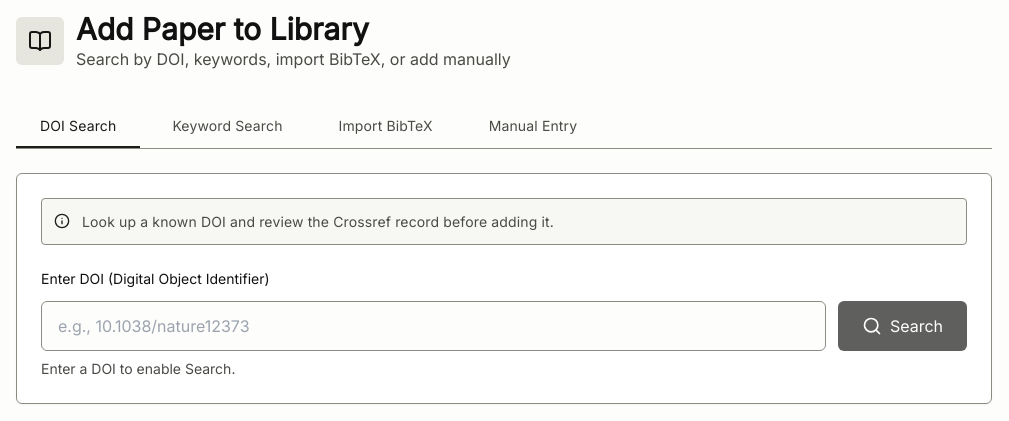
Scenario: AddPaperView disabled-search hints › DOI search explains the disabled button via title + live hint
Expected: the button "Search" is disabled, left=838, top=301, right=967, bottom=351
Expected: the text "Enter a DOI to enable Search." is shown, left=41, top=360, right=235, bottom=377
Type "10.1234/x" into the field with placeholder "e.g., 10.1038/nature12373" at (433, 326), box left=41, top=301, right=826, bottom=351
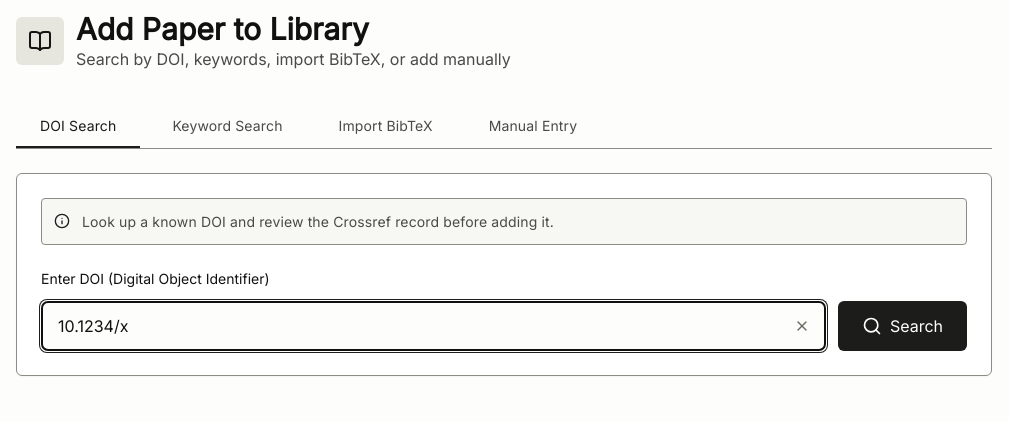
Expected: the text "Enter a DOI to enable Search." is gone
